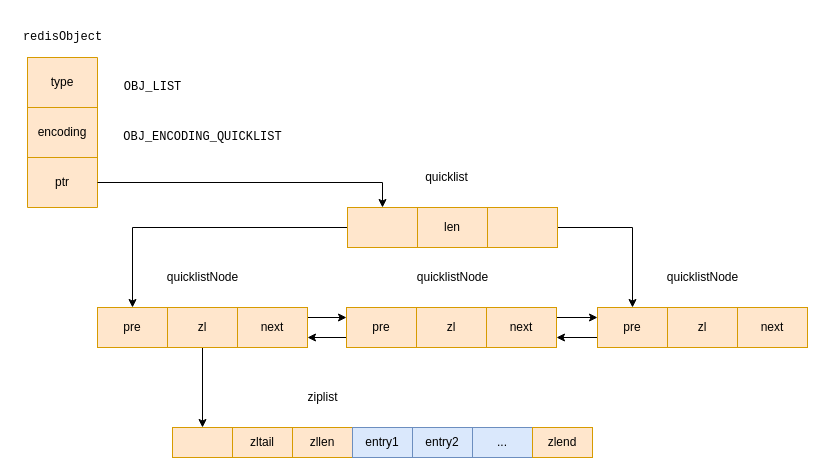
Some shapes in this 825 by 475 pixel diagram are drawn without their labels. Each missing label, with the centre of its shape:
"head" belongs at point (382, 227).
"tail" belongs at point (522, 227).
"zlbytes" belongs at point (202, 442).
